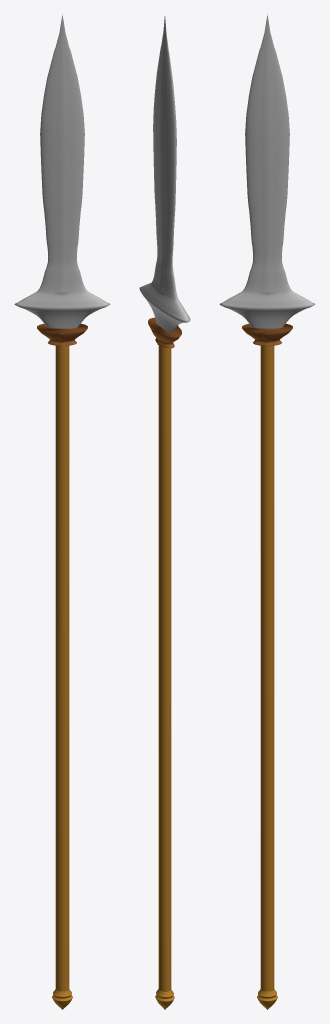
The model's file is spear1.fbx.
3 views of the same model, side by side, from view 1: azimuth 90°, elevation 25°; view 2: azimuth 210°, elevation 25°; view 3: azimuth 270°, elevation 25° (orthographic).
Parts seen in each view (by area): view 1: Cylinder; view 2: Cylinder; view 3: Cylinder.
Part boxes in pixels (x1,y1,x2,y2): Cylinder: (14, 14, 110, 1009); Cylinder: (139, 16, 190, 1009); Cylinder: (219, 14, 315, 1009).
Bounding box in the file's own units: 211 × 7534 × 658.
